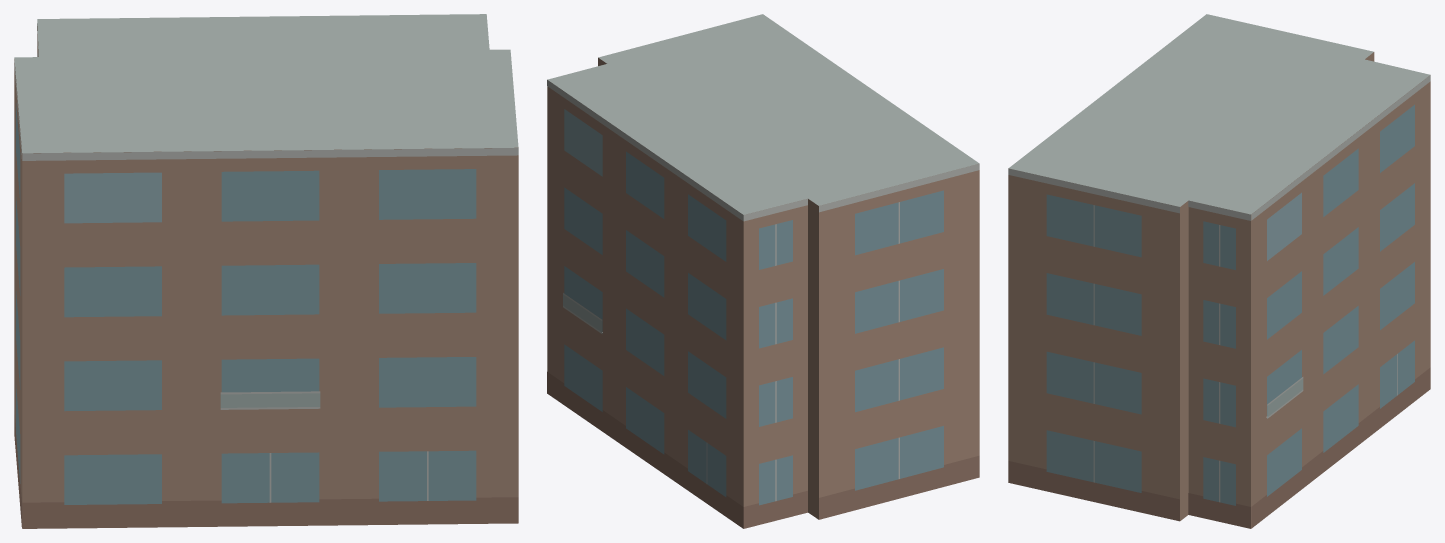
Rendered from survey-upis-32586562.glb.
3 views of the same model, side by side, from view 1: azimuth 30°, elevation 25°; view 2: azimuth 150°, elevation 25°; view 3: azimuth 270°, elevation 25° (orthographic). The views are drawn at different scales.
Visible parts, largest first — view 1: survey-upis-32586562.tmp; view 2: survey-upis-32586562.tmp; view 3: survey-upis-32586562.tmp.
Part boxes in pixels (bbox=[...]): survey-upis-32586562.tmp: bbox=[14, 14, 518, 528]; survey-upis-32586562.tmp: bbox=[547, 14, 979, 528]; survey-upis-32586562.tmp: bbox=[1008, 14, 1430, 528].
Bounding box in the file's own units: 16.22 × 11.85 × 14.43.
